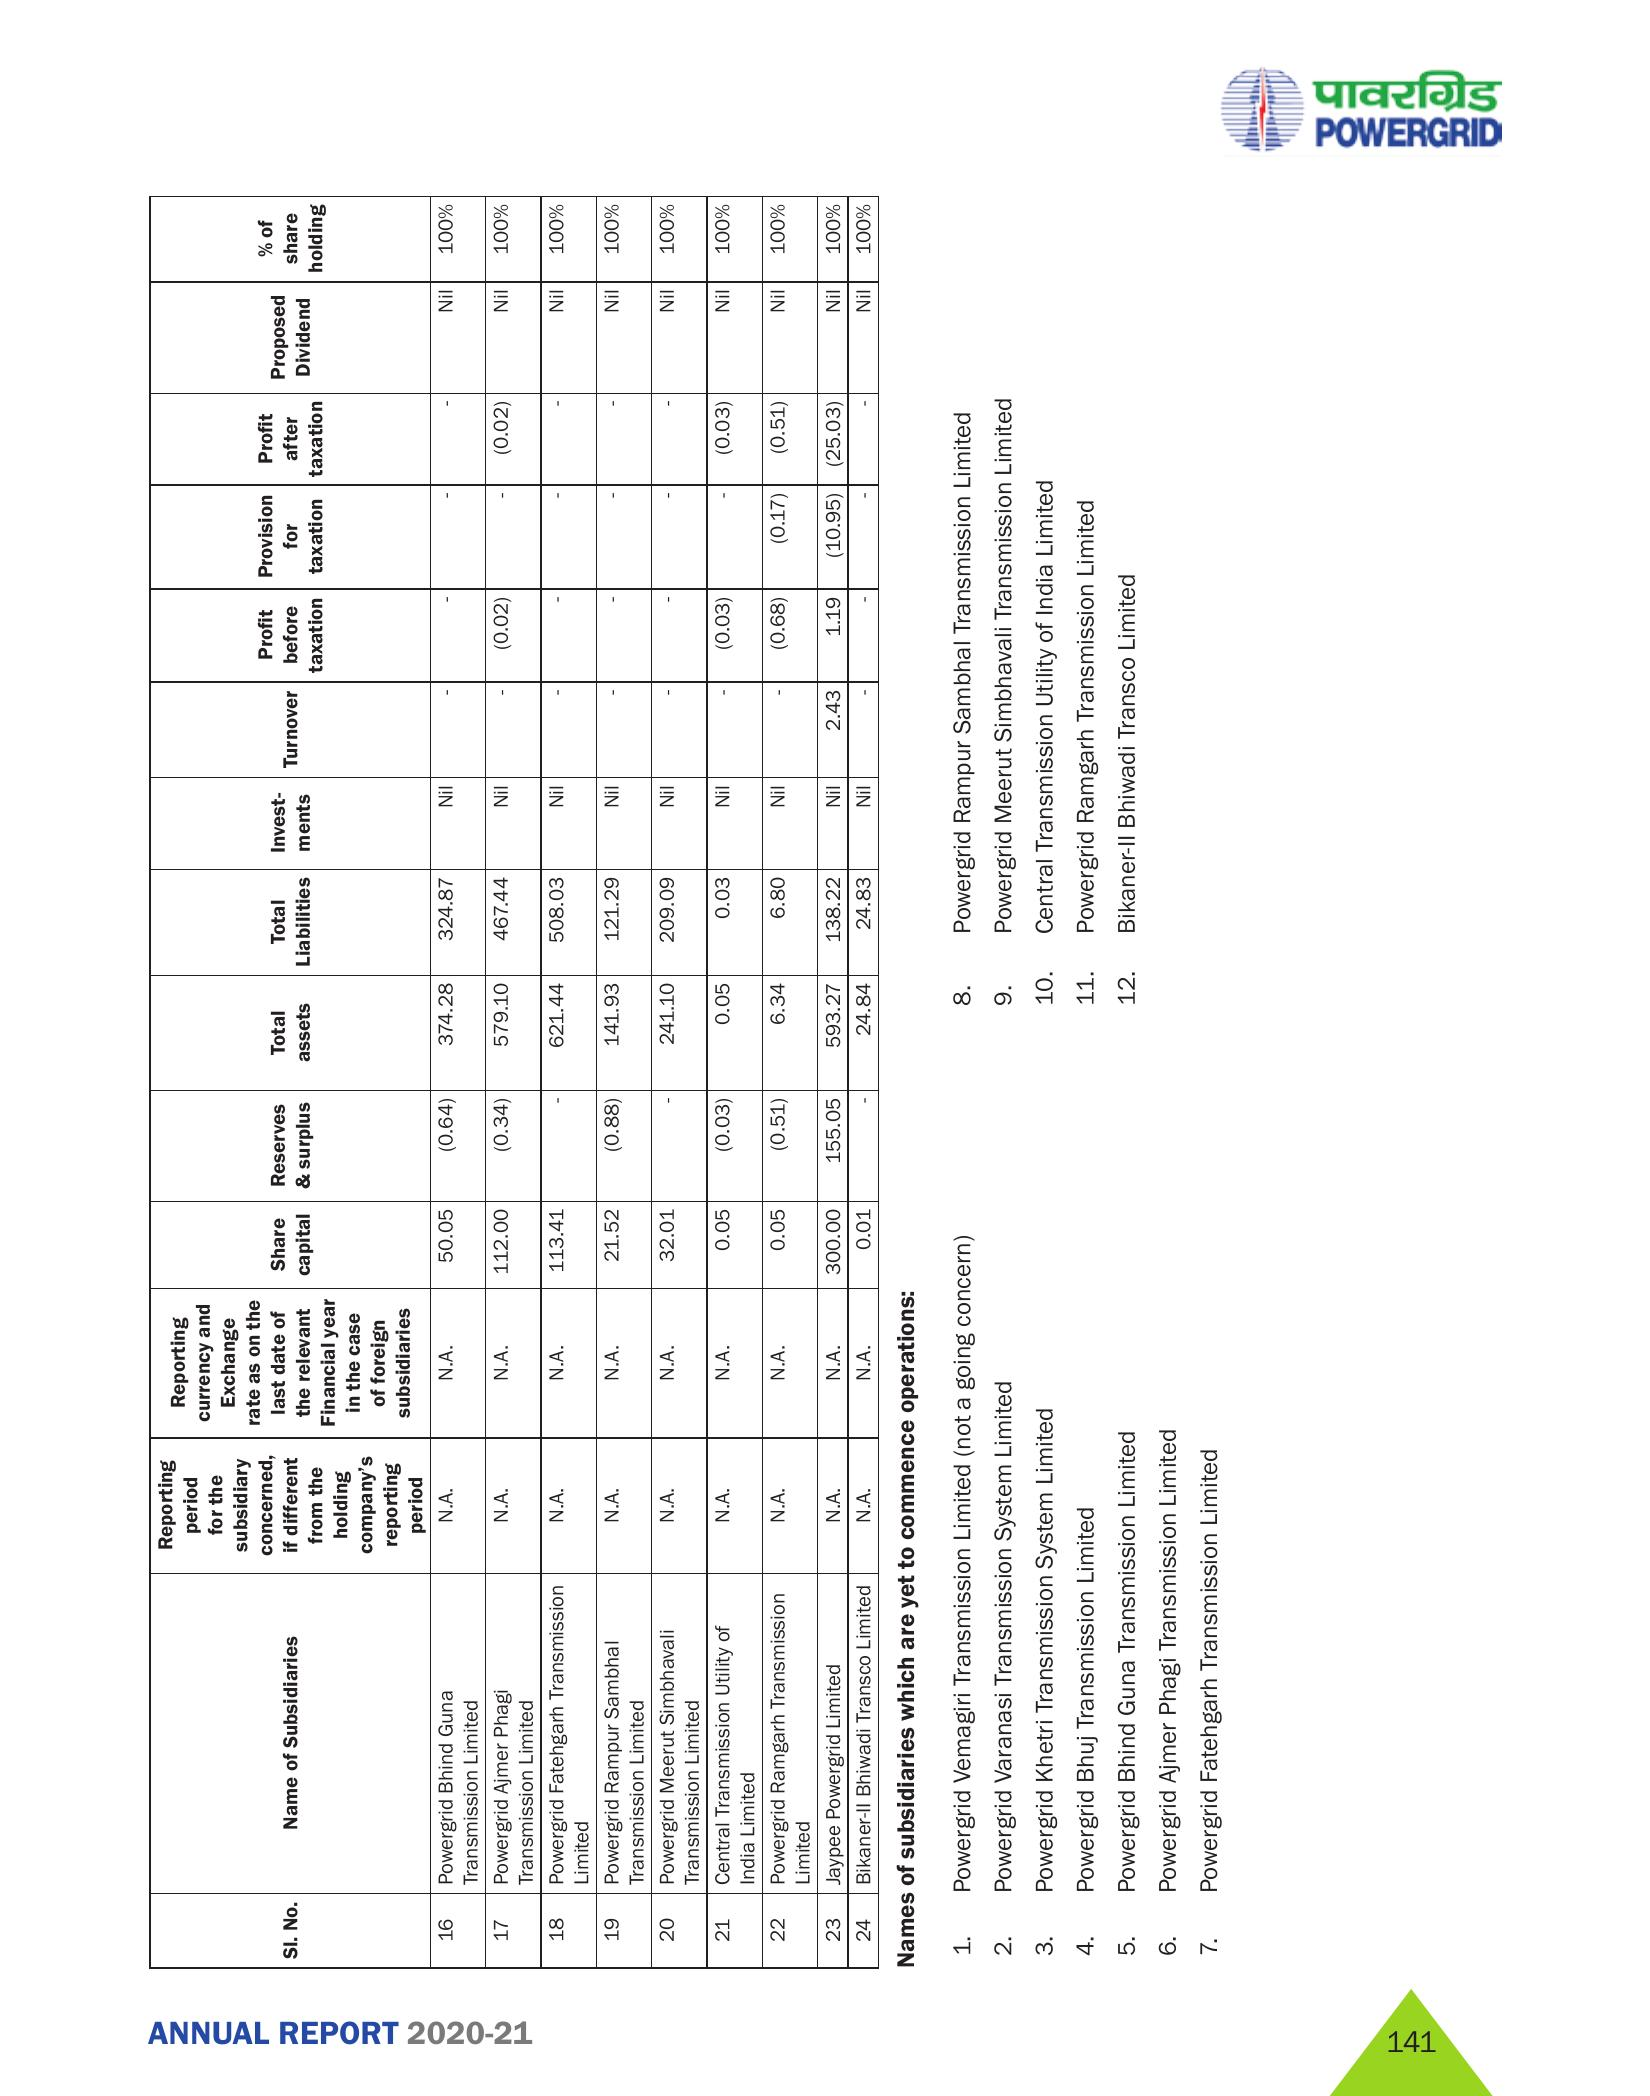Footer: (0, 1979, 1650, 2096)
Header: (0, 0, 1650, 155)
Table: (94, 172, 886, 1985)
